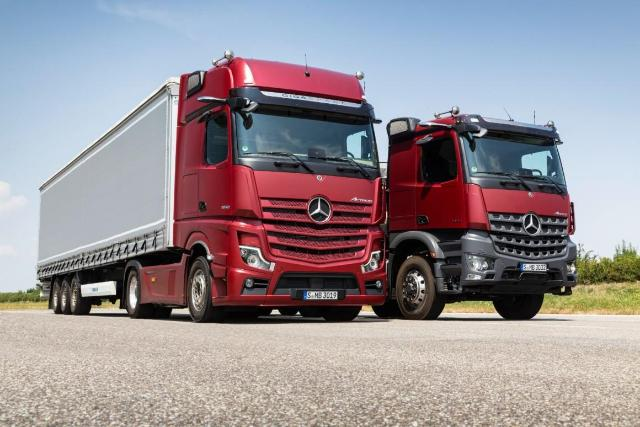truck: (0, 56, 396, 327)
